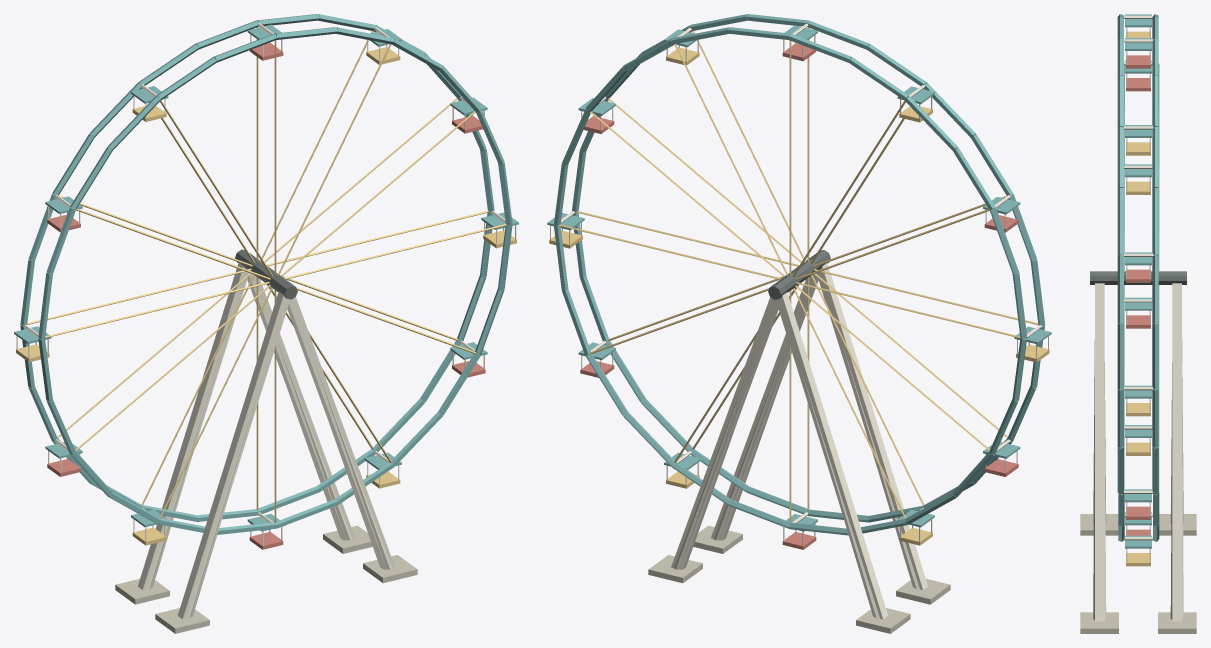
The picture shows the model from 3 angles, left to right: view 1: azimuth 30°, elevation 25°; view 2: azimuth 150°, elevation 25°; view 3: azimuth 270°, elevation 25°; orthographic projection. The views are drawn at different scales.
Size of the model in its own units: 56.7 by 62.03 by 12.
